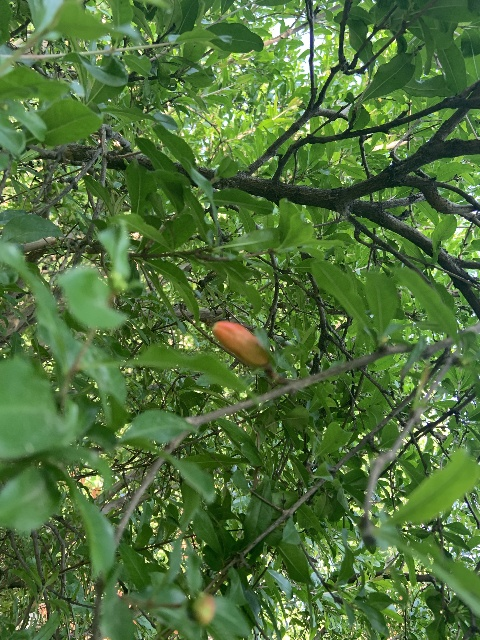bud: (213, 320, 269, 366)
